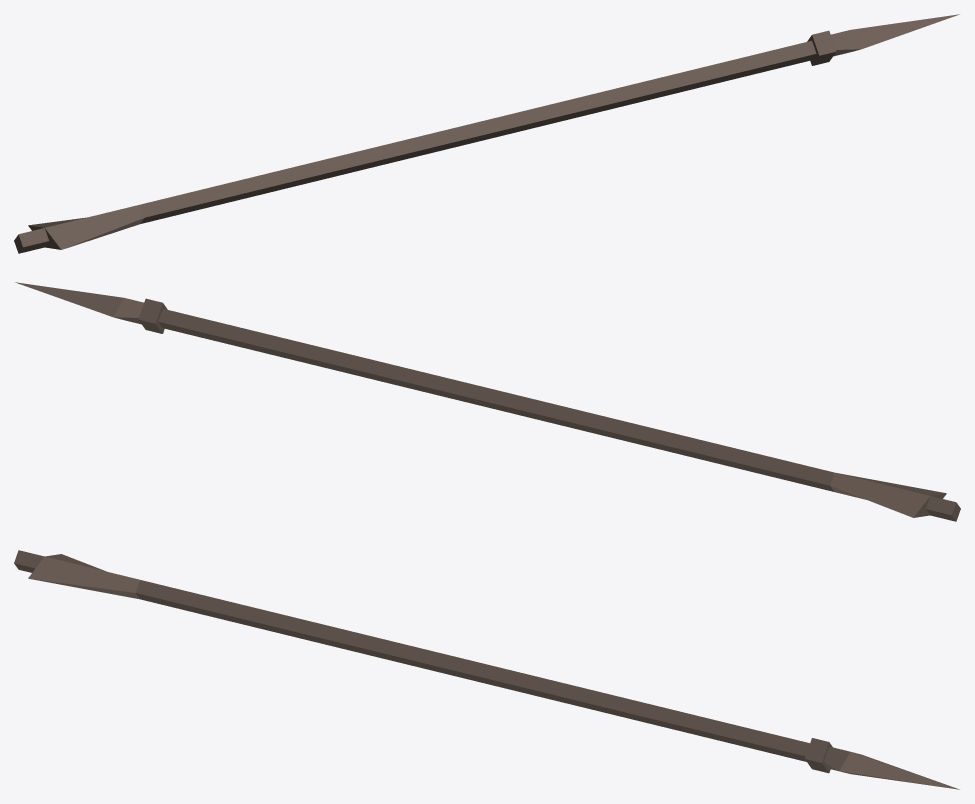
File: Arrow.fbx.glb
3 renders of one model, top to bottom at view 1: azimuth 30°, elevation 25°; view 2: azimuth 150°, elevation 25°; view 3: azimuth 330°, elevation 25°, orthographic.
Parts seen in each view (by area): view 1: Arrow.1; view 2: Arrow.1; view 3: Arrow.1.
Boxes of the visible parts, x1,y1,x2,y2 form: Arrow.1: (14,14,959,253); Arrow.1: (15,282,960,521); Arrow.1: (14,550,959,789).
Bounding box in the file's own units: 36.85 × 1.17 × 2.28.
